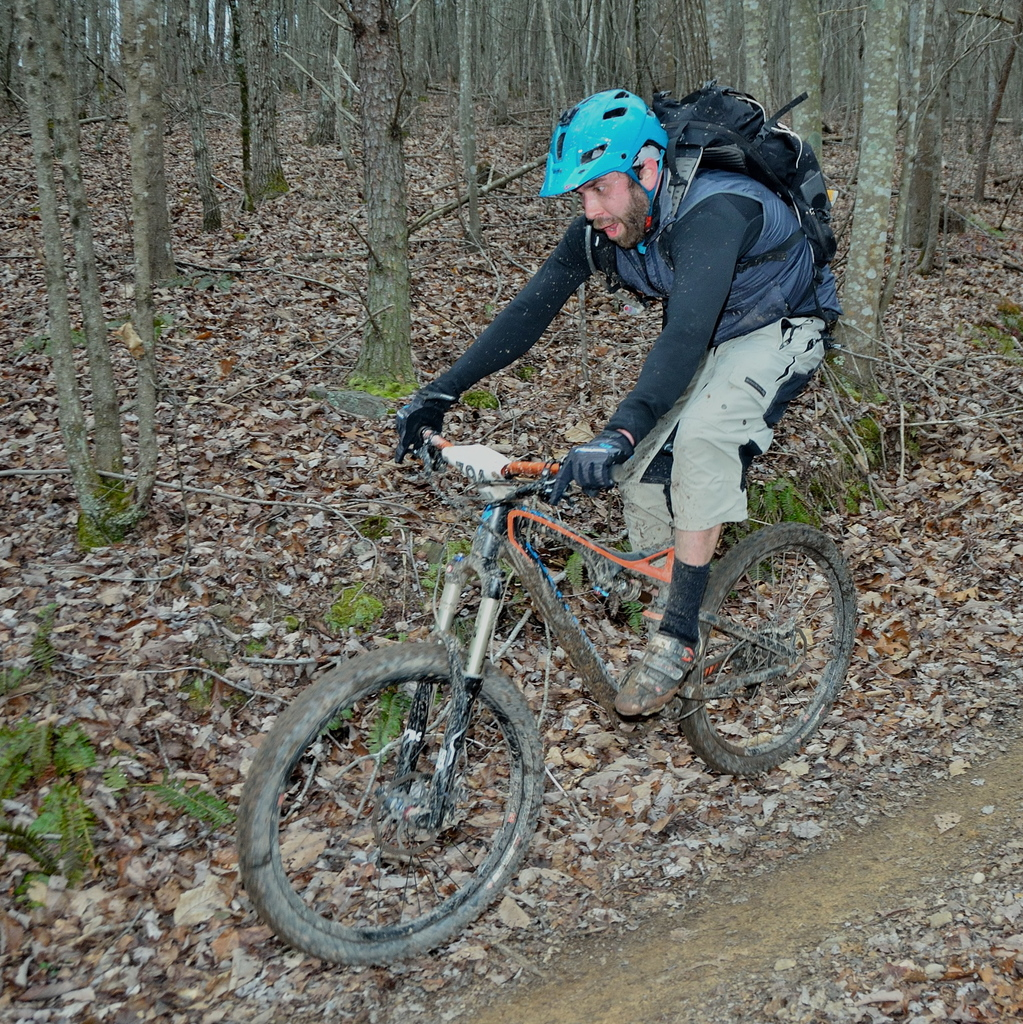Bike: (221, 384, 812, 897)
